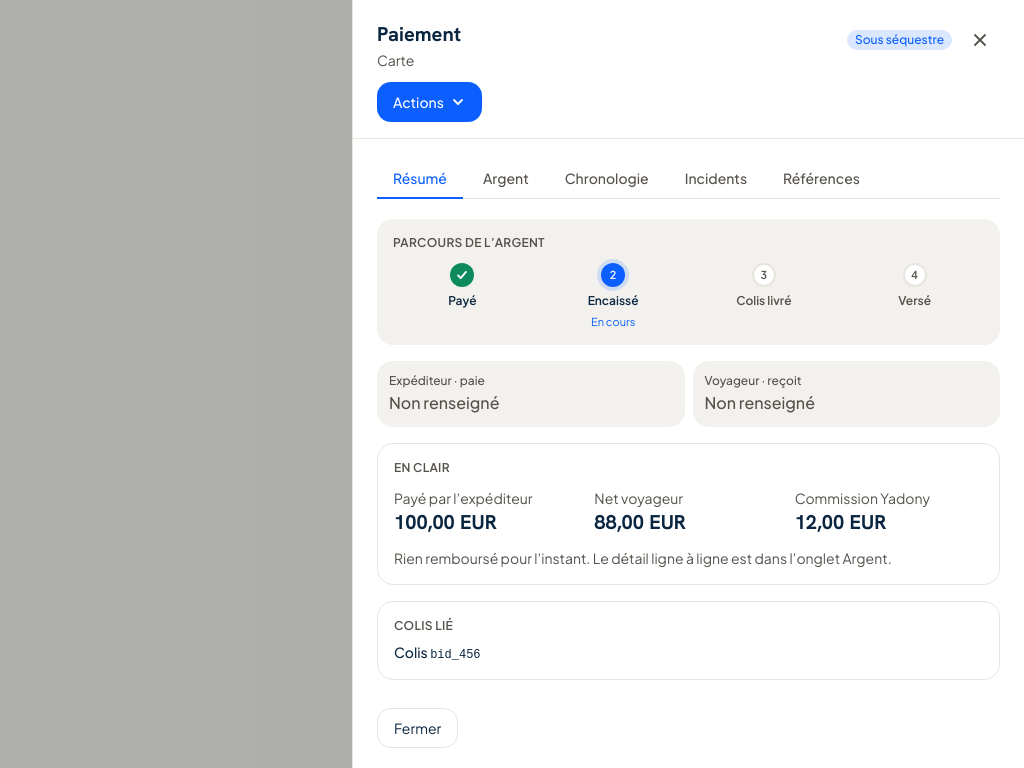
Test: PaymentDetailPanel › shows action buttons for ESCROW status
Click the button with test id "payment-actions-menu".
click(429, 102)  # box x1=377 y1=82 x2=482 y2=122
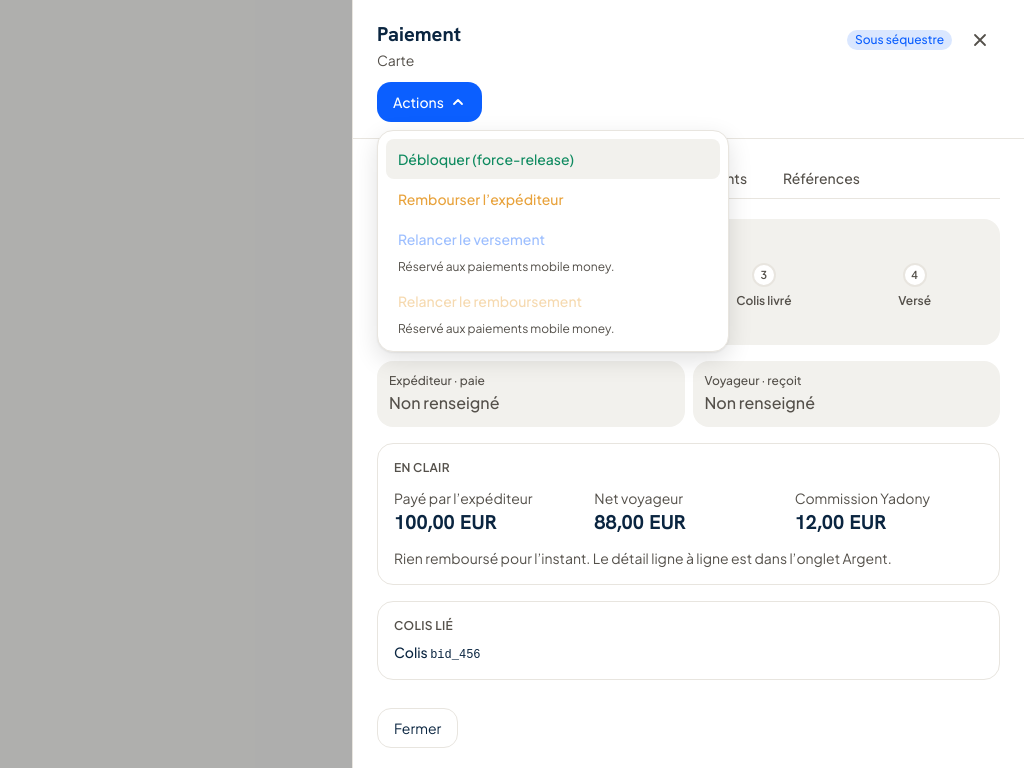
Now the menu item with test id "action-release" is shown, box x1=386 y1=139 x2=720 y2=179
Now the menu item with test id "action-refund" is shown, box x1=386 y1=179 x2=720 y2=219
